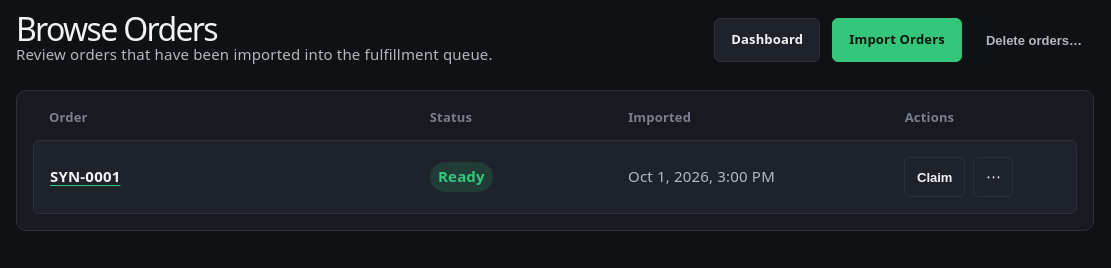
Scenario: OrdersPage deletion › offers a Manager/Admin Delete order… from the row's menu when the order can be deleted (FR-021)
What coordinates should you click on to do the following:
click the button named "actions"
I would click on:
 (993, 177)
Its box is [973,157,1013,197].
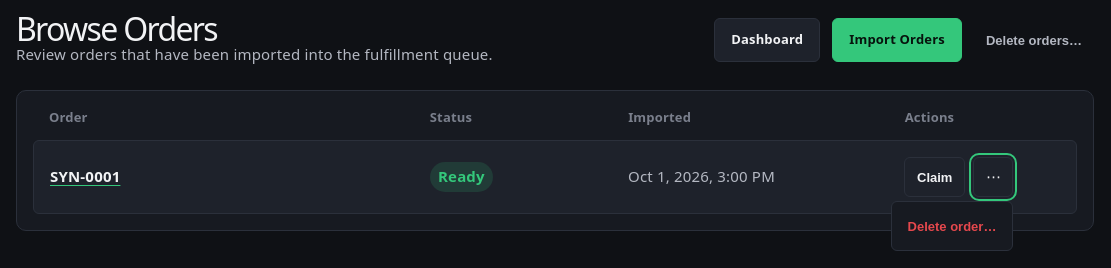
Now the menu item "Delete order…" is shown, box [896,206,1008,246]
